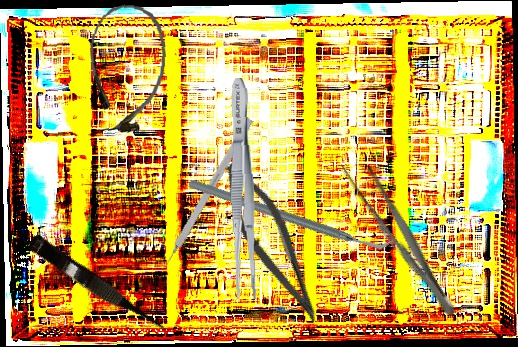Cannula: (81, 1, 171, 137)
Chopper: (186, 112, 397, 316)
Dressing Forceps: (335, 151, 466, 323), (225, 77, 260, 300)
Hook Surgical: (157, 117, 254, 277)
Micro Scissor: (206, 153, 341, 332), (23, 232, 174, 344)
